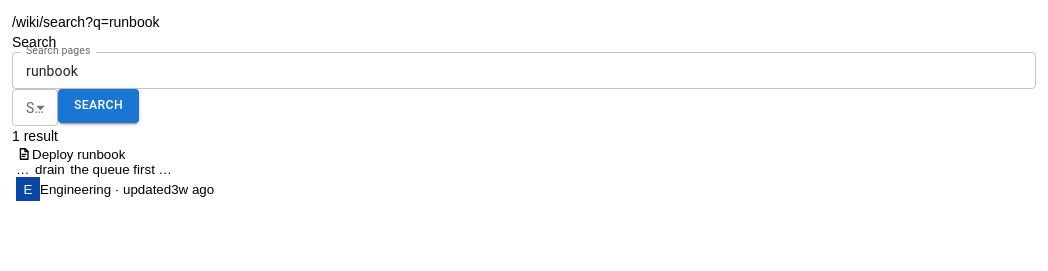
JL-113 space filter › offers the spaces the shell already loaded, plus All
Expected: the text "Deploy runbook" is shown, x1=32 y1=147 x2=125 y2=162
Press the mouse on the dropdown named "Space" at point(35, 108), box x1=12 y1=89 x2=58 y2=126
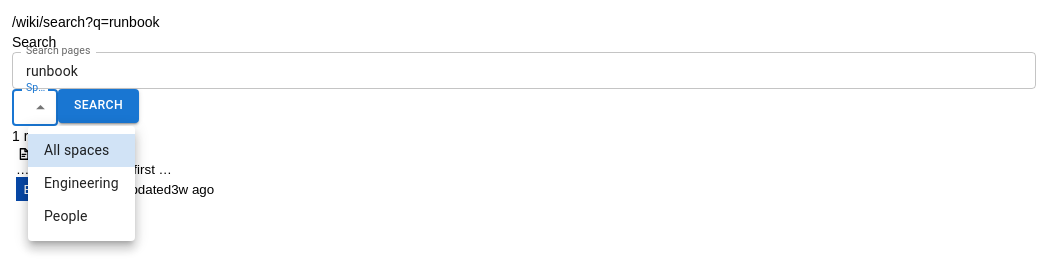
Expected: the option "All spaces" is shown, x1=28 y1=134 x2=135 y2=167
Expected: the option "Engineering" is shown, x1=44 y1=175 x2=119 y2=191
